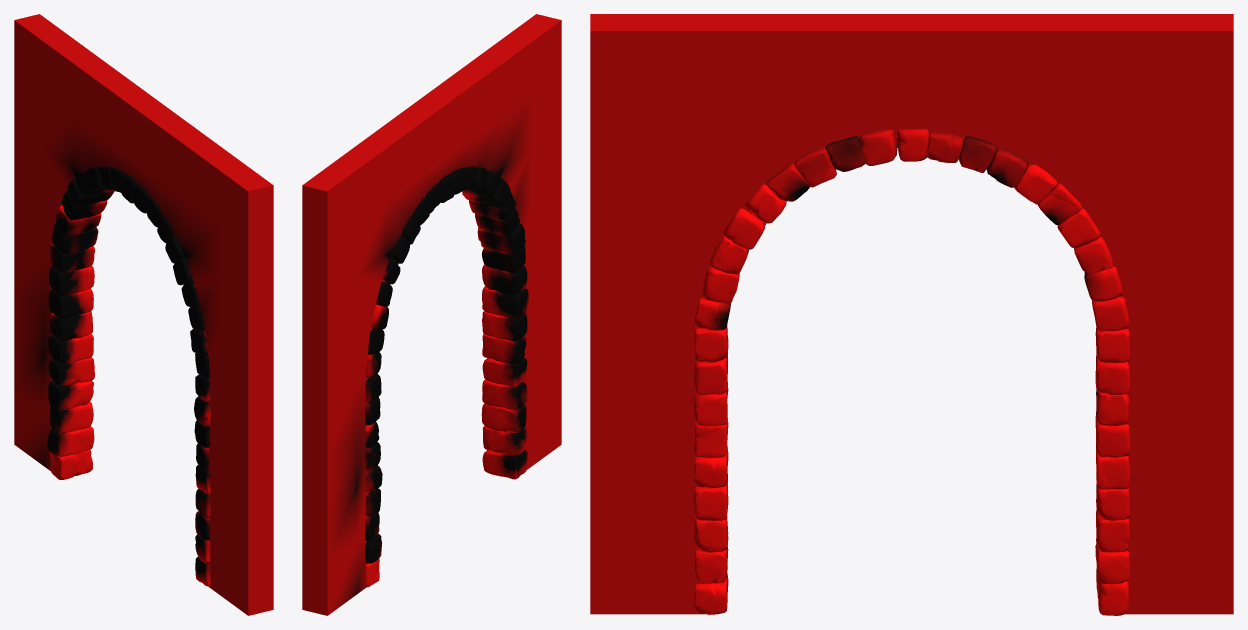
Rendered from SM_ArchWall_Gate_Bricks_8x8_A.fbx.
3 renders of one model, left to right at view 1: azimuth 30°, elevation 25°; view 2: azimuth 150°, elevation 25°; view 3: azimuth 270°, elevation 25°, orthographic. The views are drawn at different scales.
Parts seen in each view (by area): view 1: SM_ArchWall_Gate_Bricks_8x8_A_LOD0; view 2: SM_ArchWall_Gate_Bricks_8x8_A_LOD0; view 3: SM_ArchWall_Gate_Bricks_8x8_A_LOD0.
Boxes of the visible parts, x1,y1,x2,y2 form: SM_ArchWall_Gate_Bricks_8x8_A_LOD0: [14, 14, 273, 615]; SM_ArchWall_Gate_Bricks_8x8_A_LOD0: [302, 14, 561, 615]; SM_ArchWall_Gate_Bricks_8x8_A_LOD0: [590, 14, 1233, 615].
Bounding box in the file's own units: 74.25 × 800 × 800.
